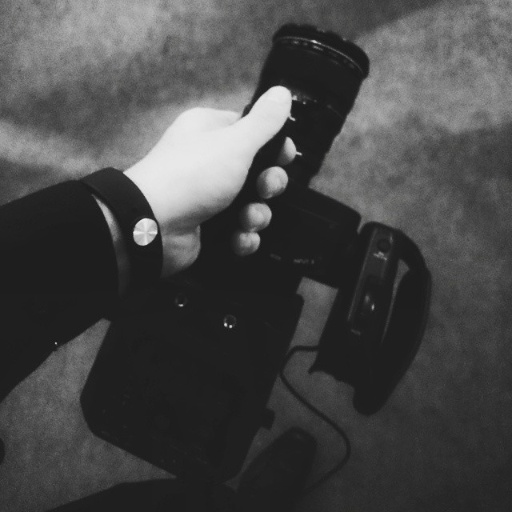hand: (141, 84, 296, 277)
